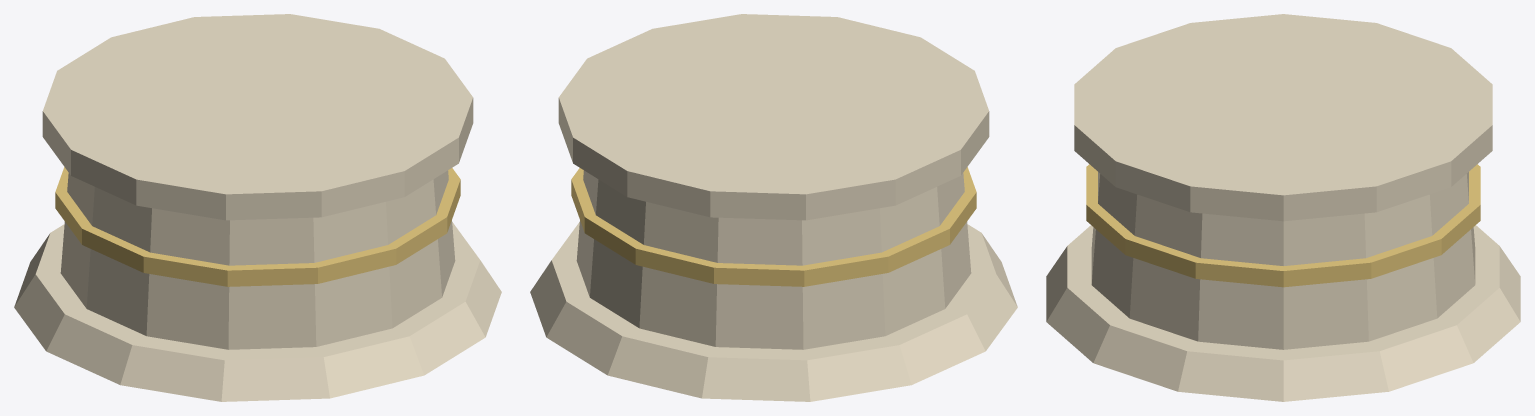
Rendered from legendary-warriors-kit-display-plinth-round-329a360b__39221.glb.
3 views of the same model, side by side, from view 1: azimuth 30°, elevation 25°; view 2: azimuth 150°, elevation 25°; view 3: azimuth 270°, elevation 25° (orthographic).
Visible parts, largest first — view 1: display-plinth-round; view 2: display-plinth-round; view 3: display-plinth-round.
Boxes of the visible parts, x1,y1,x2,y2 form: display-plinth-round: (14,14,501,401); display-plinth-round: (530,14,1017,401); display-plinth-round: (1046,14,1520,401).
Size of the model in its own units: 1.36 by 0.6 by 1.33.
